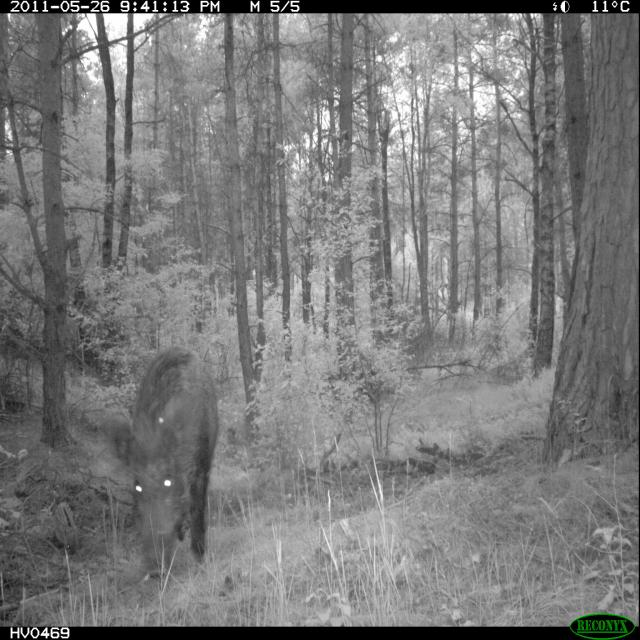boar: (110, 320, 228, 583)
